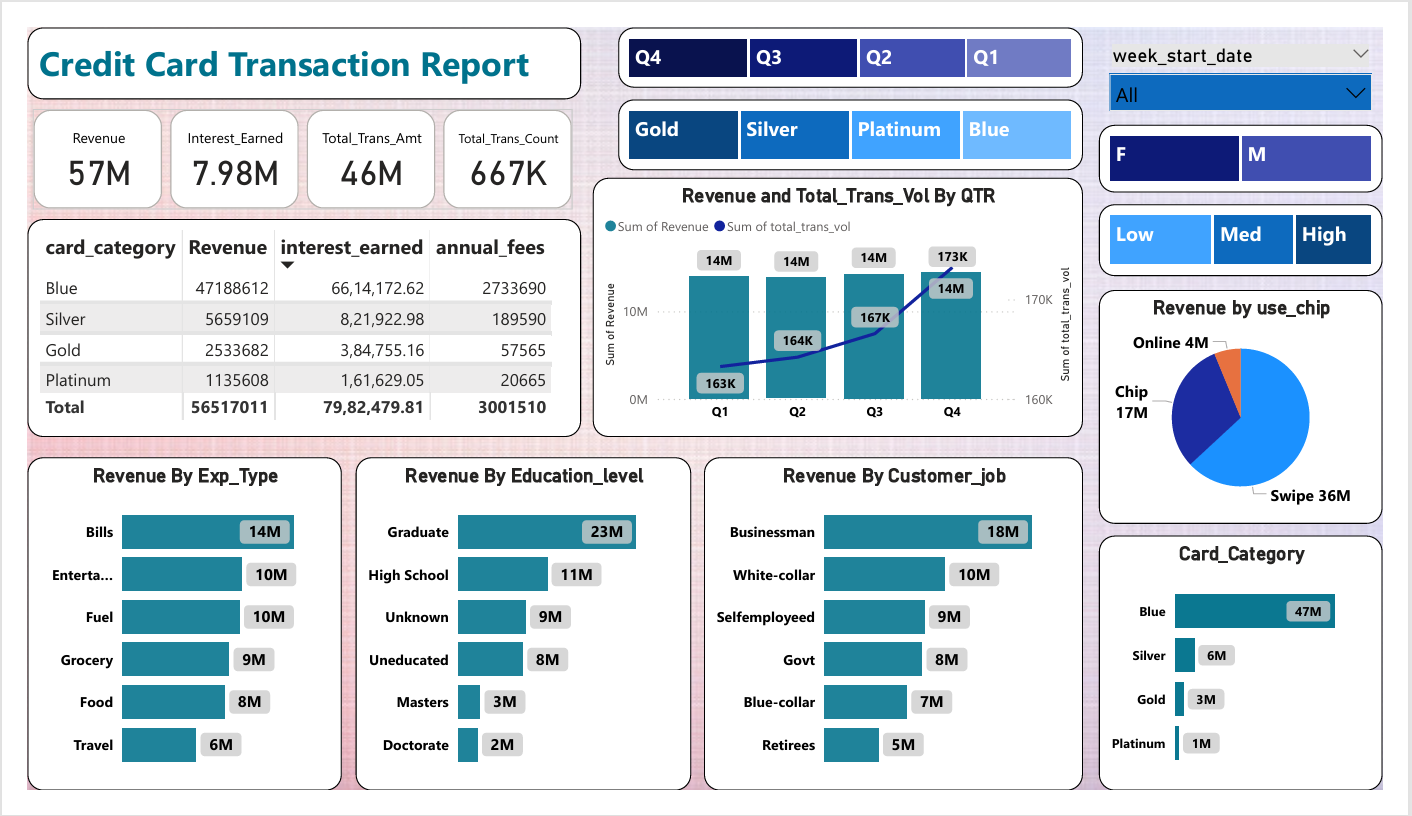

What the dashboard file says about the page in this screenshot:
{"tool":"powerbi","page":{"name":"CC TRANSACTION REPORT","canvas":[1280,720],"ordinal":2},"visuals":[{"type":"textbox","box":[0,0,523.3,68.4],"z":0},{"type":"lineStackedColumnComboChart","title":"Revenue and  Total_Trans_Vol By QTR","fields":{"Y":["Sum(public cc_detail.Revenue)"],"Category":["public cc_detail.qtr"],"Y2":["Sum(public cc_detail.total_trans_vol)"]},"box":[534.4,141.6,462.9,245],"z":1000},{"type":"barChart","title":" Revenue By Exp_Type","fields":{"Y":["Sum(public cc_detail.Revenue)"],"Category":["public cc_detail.exp_type"]},"box":[0,405.6,297.4,314.9],"z":2000},{"type":"barChart","title":"Revenue By Education_level","fields":{"Y":["Sum(public cc_detail.Revenue)"],"Category":["public cust_detail.education_level"]},"box":[310.2,405.6,316.5,314.9],"z":3000},{"type":"barChart","title":"Revenue By Customer_job","fields":{"Y":["Sum(public cc_detail.Revenue)"],"Category":["public cust_detail.customer_job"]},"box":[639.4,405.6,357.9,314.9],"z":4000},{"type":"barChart","title":"Card_Category","fields":{"Y":["Sum(public cc_detail.Revenue)"],"Category":["public cc_detail.card_category"]},"box":[1011.6,480.4,268.8,240.2],"z":5000},{"type":"pieChart","title":"Revenue by use_chip","fields":{"Category":["public cc_detail.use_chip"],"Y":["Sum(public cc_detail.Revenue)"]},"box":[1011.6,248.1,268.8,221.1],"z":6000},{"type":"tableEx","fields":{"Values":["public cc_detail.card_category","Sum(public cc_detail.Revenue)","Sum(public cc_detail.interest_earned)","Sum(public cc_detail.annual_fees)"]},"box":[0,181.3,523.3,205.2],"z":7000},{"type":"slicer","fields":{"Values":["public cc_detail.week_start_date"]},"box":[1011.6,11.1,268.8,81.1],"z":8000},{"type":"treemap","fields":{"Group":["public cust_detail.gender"],"Values":["Avg(public cc_detail.client_num)"]},"box":[1011.6,92.3,268.8,63.6],"z":9000},{"type":"treemap","fields":{"Group":["public cust_detail.IncomeGroup"],"Values":["CountNonNull(public cc_detail.client_num)"]},"box":[1011.6,167,268.8,68.4],"z":10000},{"type":"treemap","fields":{"Values":["Avg(public cc_detail.client_num)"],"Group":["public cc_detail.qtr"]},"box":[558.3,0,439,57.3],"z":11000},{"type":"treemap","fields":{"Group":["public cc_detail.card_category"],"Values":["Min(public cc_detail.client_num)"]},"box":[558.3,68.4,439,66.8],"z":12000},{"type":"cardVisual","fields":{"Data":["Sum(public cc_detail.Revenue)","Sum(public cc_detail.interest_earned)","Sum(public cc_detail.total_trans_amt)","Sum(public cc_detail.total_trans_vol)"]},"box":[0,71.6,523.3,105],"z":13000}]}

Visuals, with their boxes in screenshot pixels (x1, y1, x2, y2), scaled from the page's 1280x720 canvas onto the 1412x816 screenshot:
textbox: <bbox>0, 0, 577, 78</bbox>
"Revenue and  Total_Trans_Vol By QTR" lineStackedColumnComboChart: <bbox>590, 160, 1100, 438</bbox>
" Revenue By Exp_Type" barChart: <bbox>0, 460, 328, 815</bbox>
"Revenue By Education_level" barChart: <bbox>342, 460, 691, 815</bbox>
"Revenue By Customer_job" barChart: <bbox>705, 460, 1100, 815</bbox>
"Card_Category" barChart: <bbox>1116, 544, 1411, 815</bbox>
"Revenue by use_chip" pieChart: <bbox>1116, 281, 1411, 532</bbox>
tableEx - public cc_detail.card_category x Sum(public cc_detail.Revenue): <bbox>0, 205, 577, 438</bbox>
slicer - public cc_detail.week_start_date: <bbox>1116, 13, 1411, 104</bbox>
treemap - public cust_detail.gender x Avg(public cc_detail.client_num): <bbox>1116, 105, 1411, 177</bbox>
treemap - public cust_detail.IncomeGroup x CountNonNull(public cc_detail.client_num): <bbox>1116, 189, 1411, 267</bbox>
treemap - Avg(public cc_detail.client_num) x public cc_detail.qtr: <bbox>616, 0, 1100, 65</bbox>
treemap - public cc_detail.card_category x Min(public cc_detail.client_num): <bbox>616, 78, 1100, 153</bbox>
cardVisual - Sum(public cc_detail.Revenue) x Sum(public cc_detail.interest_earned): <bbox>0, 81, 577, 200</bbox>
